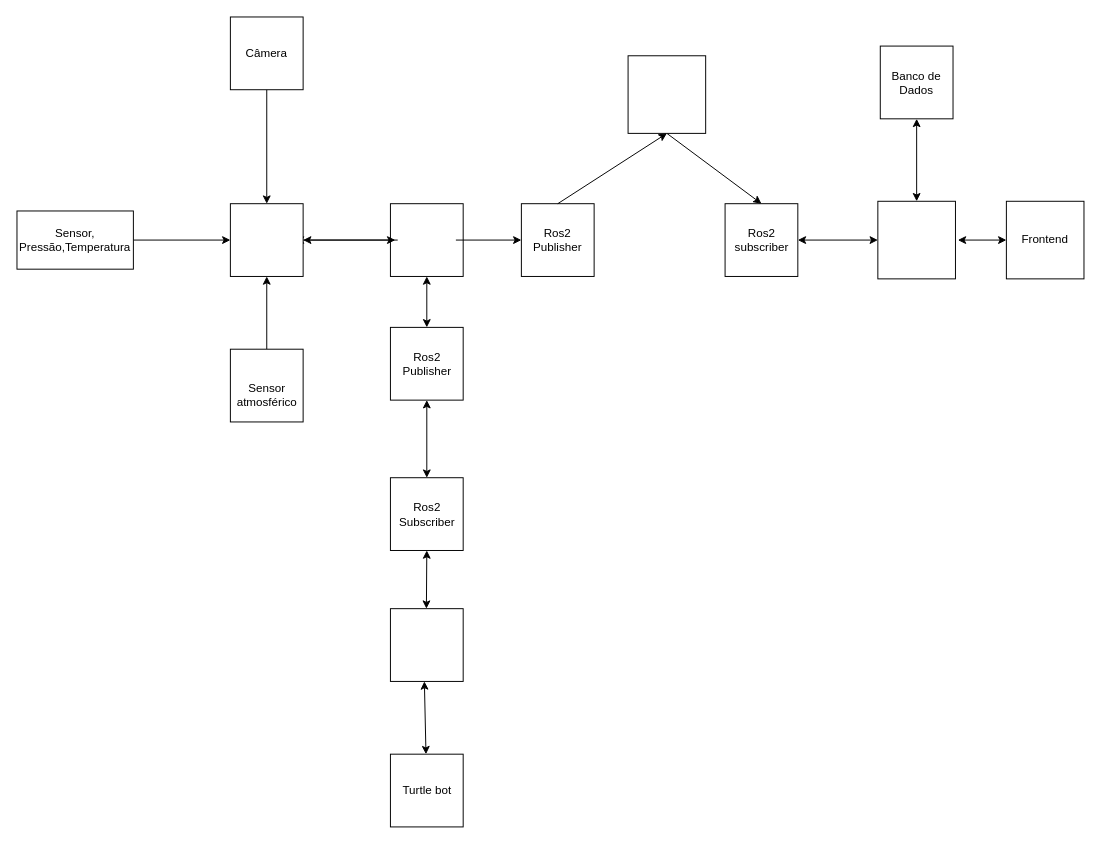
This 1101x844 diagram has some shape labels left out. The shapes that lost their labels are listed below. From the top down, each one's box as (x1, y1, x2, y2) in pixels, then its label:
(627, 55, 706, 133): Topics
(229, 203, 303, 276): Rasberry Pi
(389, 203, 463, 276): Ubuntu
(877, 200, 955, 279): Server
(389, 608, 463, 681): Topic
